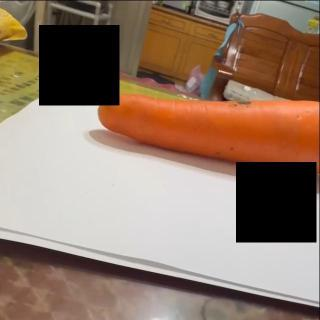carrot: (97, 92, 320, 177)
